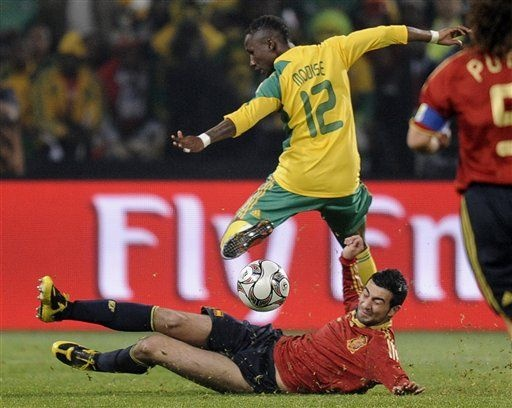falling: (28, 261, 433, 398)
